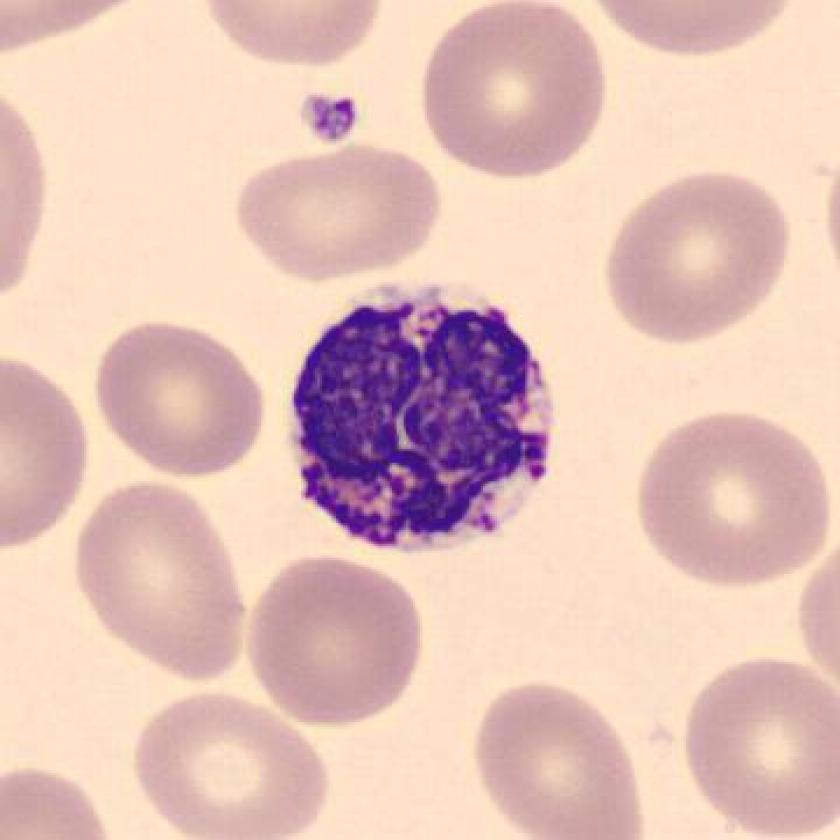basophil: (288, 286, 566, 561)
